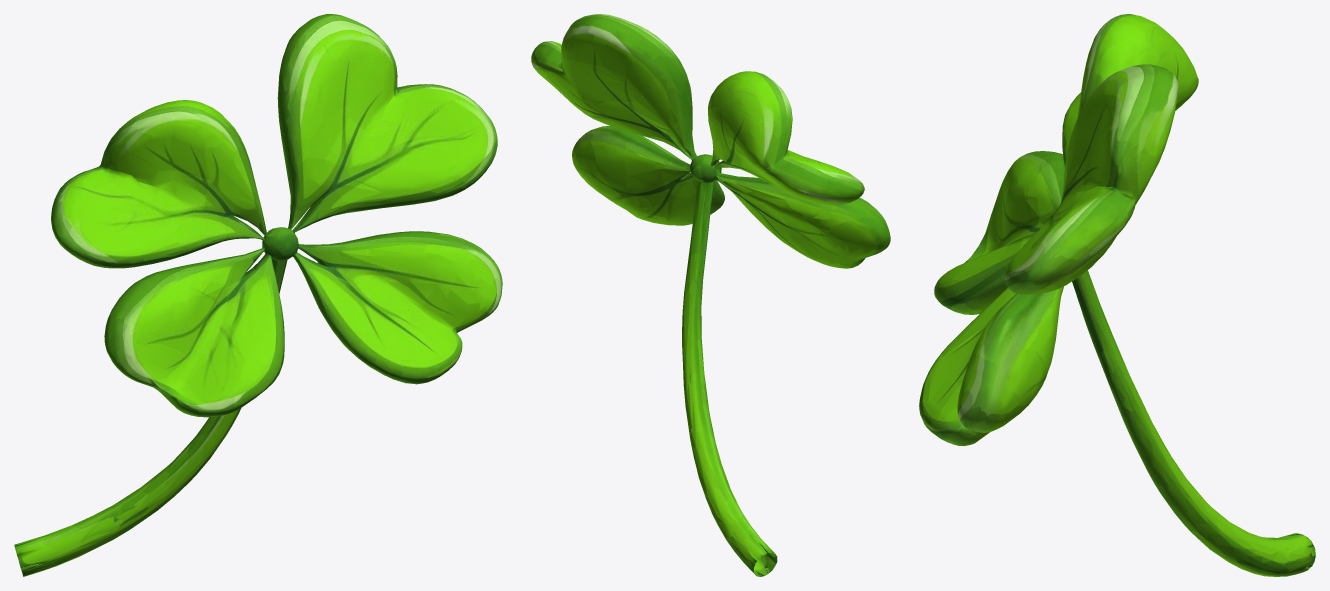
Rendered from four_leaf_clover.glb.
3 views of the same model, side by side, from view 1: azimuth 30°, elevation 25°; view 2: azimuth 150°, elevation 25°; view 3: azimuth 270°, elevation 25° (orthographic). The views are drawn at different scales.
Parts seen in each view (by area): view 1: Mesh_0; view 2: Mesh_0; view 3: Mesh_0.
Part boxes in pixels (x1=…): Mesh_0: x1=14, y1=14, x2=502, y2=576; Mesh_0: x1=531, y1=14, x2=890, y2=576; Mesh_0: x1=919, y1=14, x2=1315, y2=576.
Bounding box in the file's own units: 1.48 × 1.9 × 1.06.
Materials: 1 (1 with a texture image).
